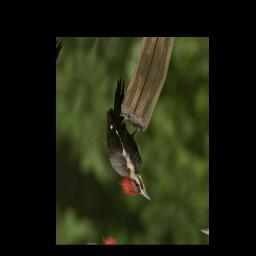Woodpecker: (83, 70, 180, 213)
